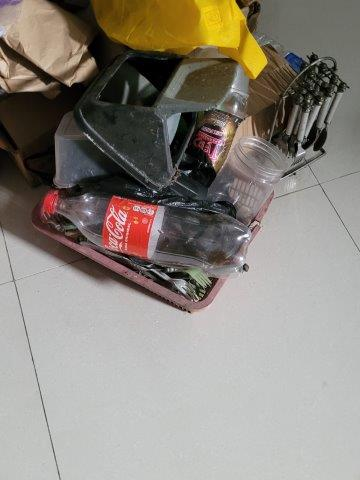botolplastik: (45, 190, 249, 274), (189, 83, 238, 181)
